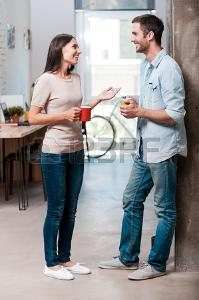person: (27, 31, 102, 135), (125, 15, 188, 131)
